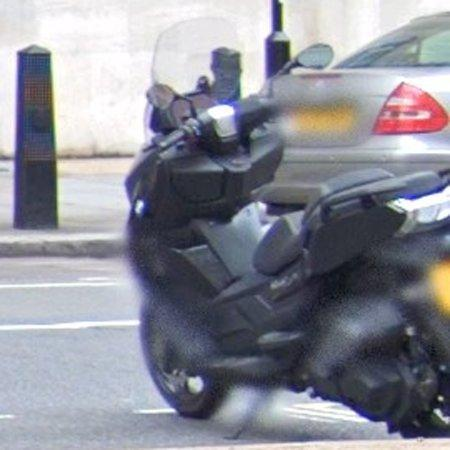motorcycles: (126, 48, 450, 428)
